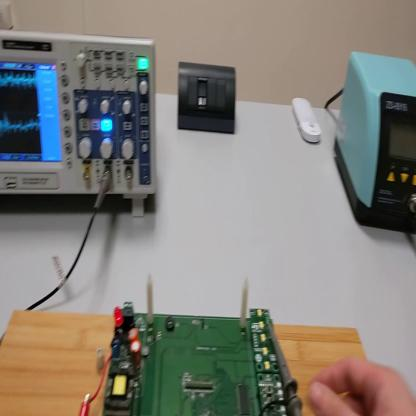hand: (309, 355, 414, 416)
low voltage board: (89, 275, 288, 415)
oscilloscope: (2, 30, 157, 220)
oscilloscope probe tip: (266, 325, 300, 416)
welder station: (335, 51, 415, 234)
working area: (1, 309, 366, 413)
